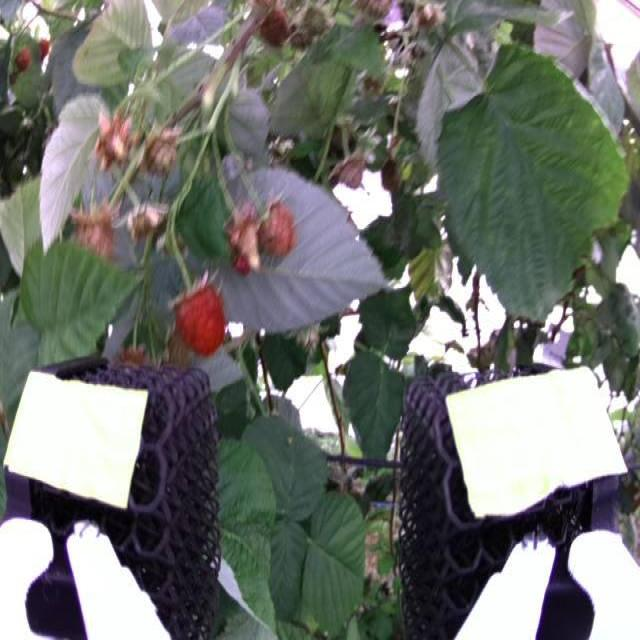Riped berries: (168, 274, 236, 354)
